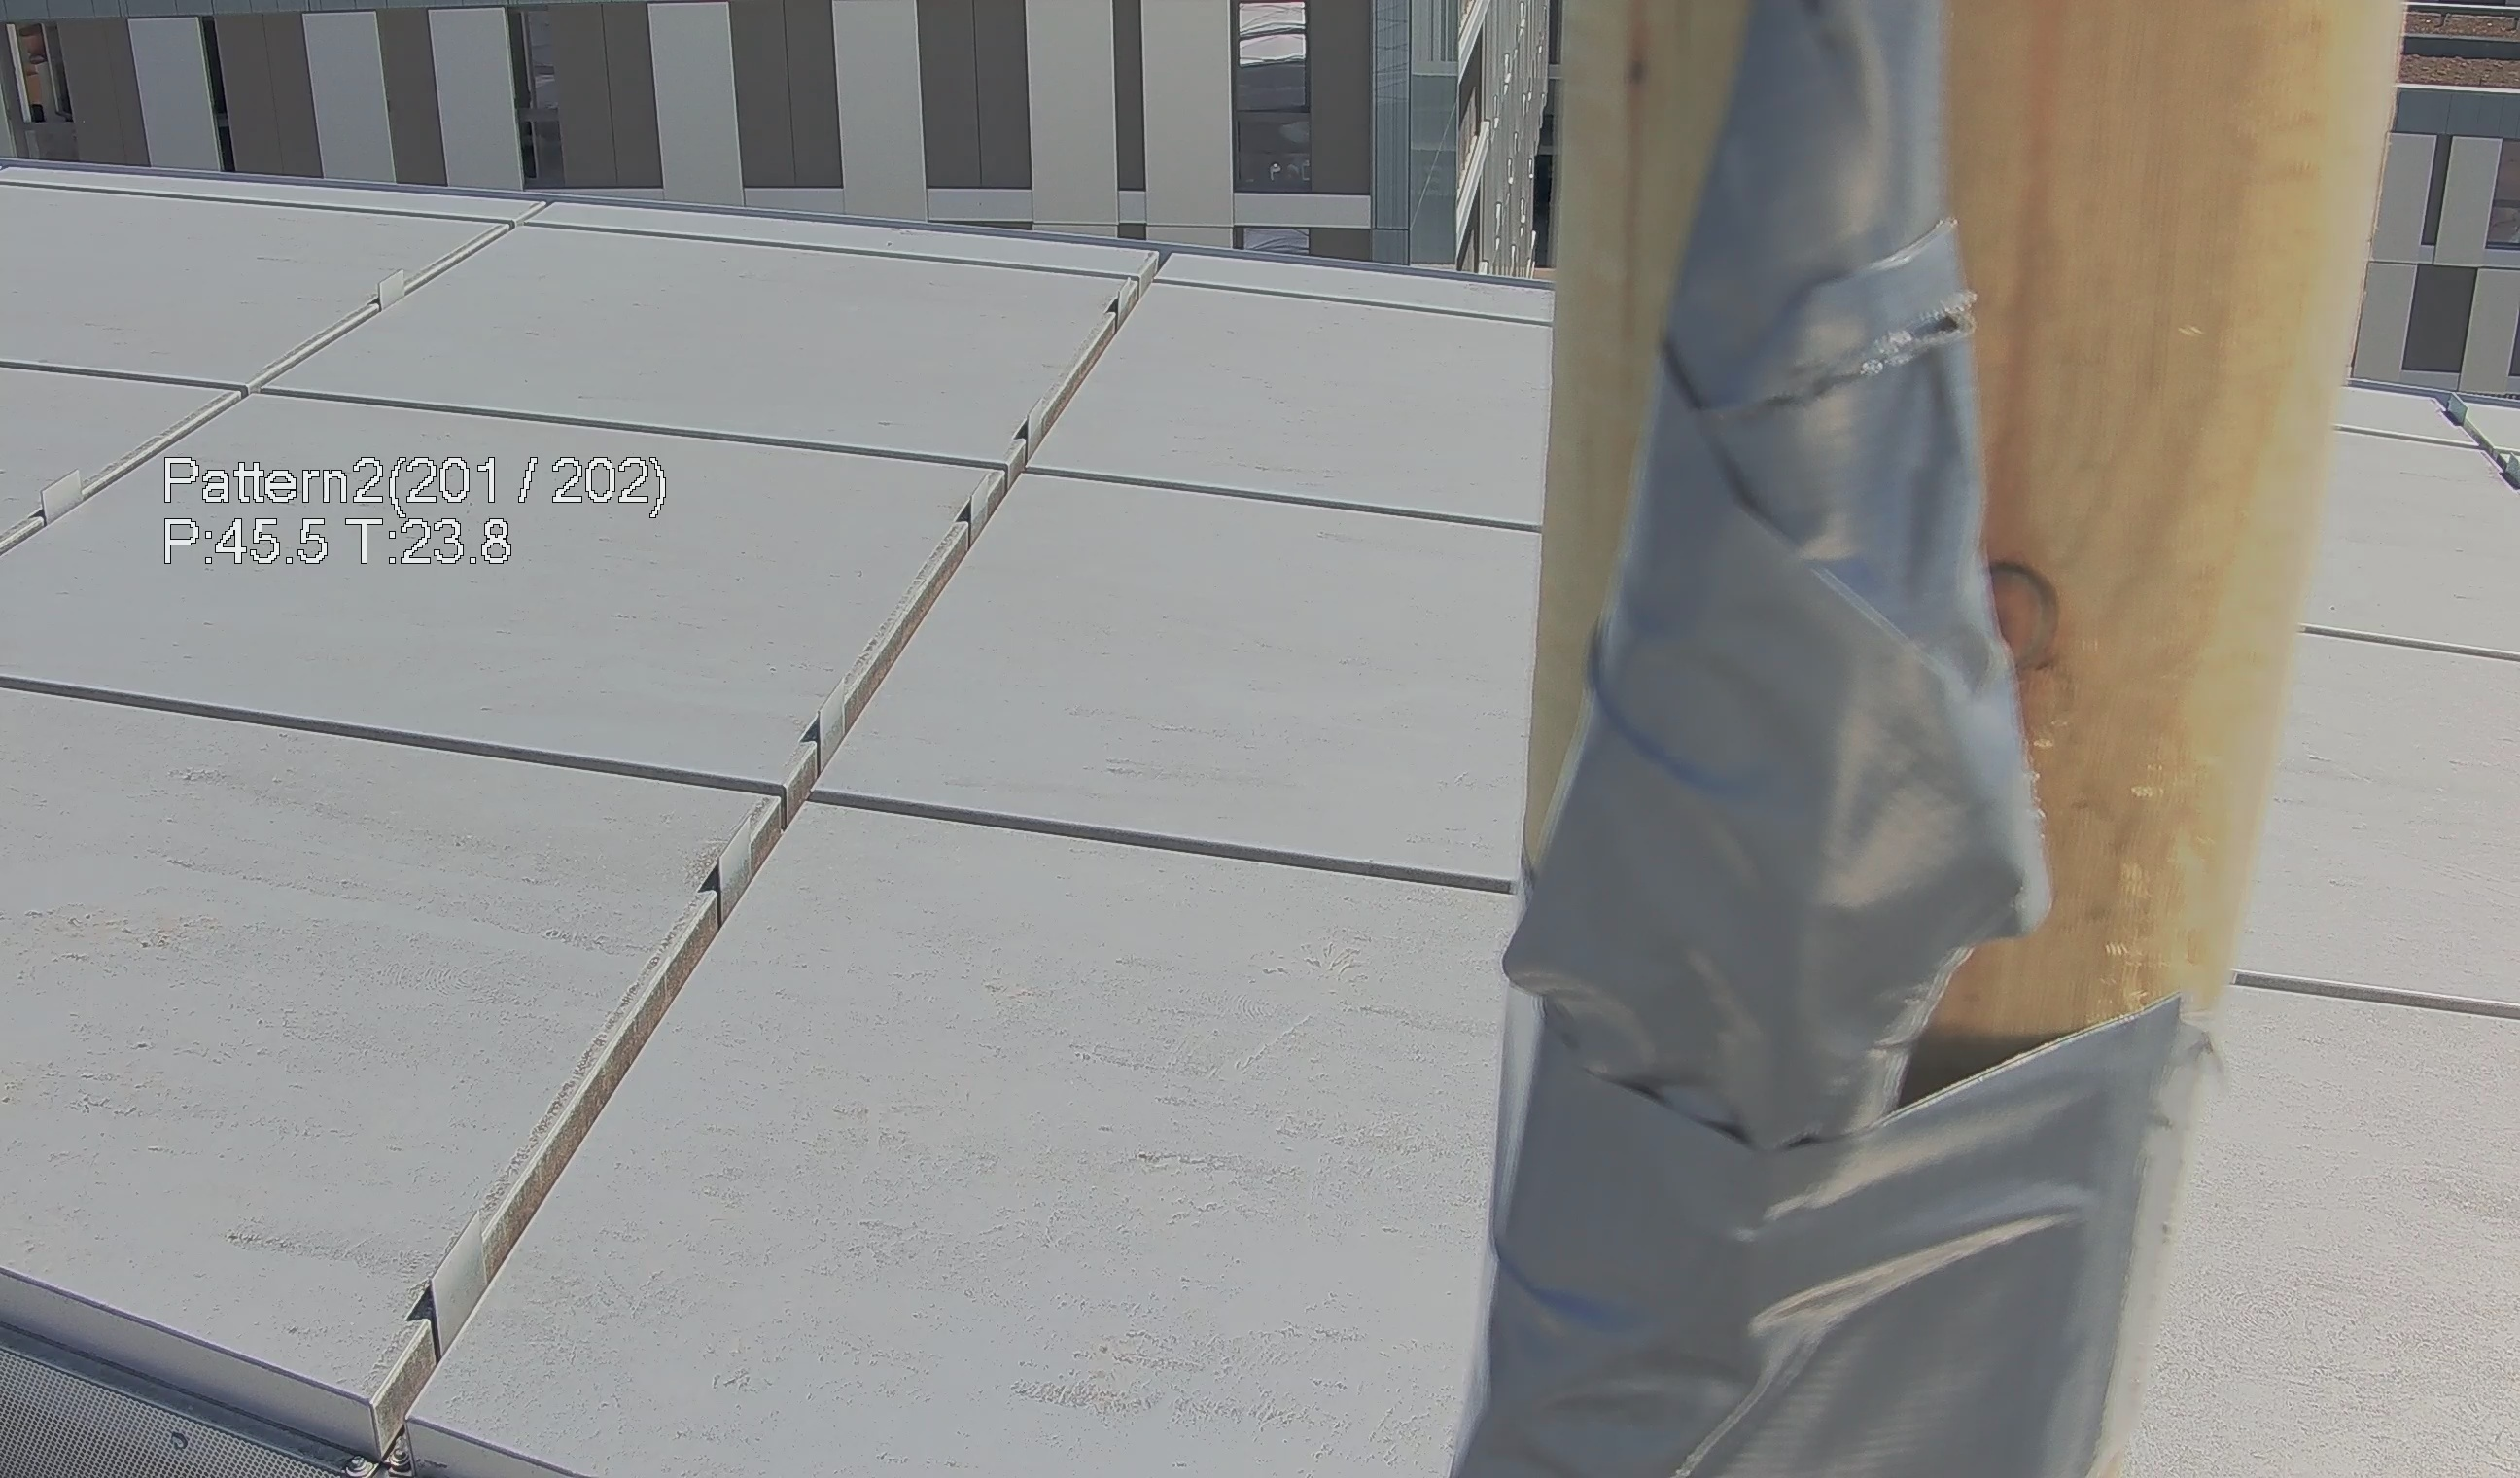Other: (1502, 148, 2094, 1151)
